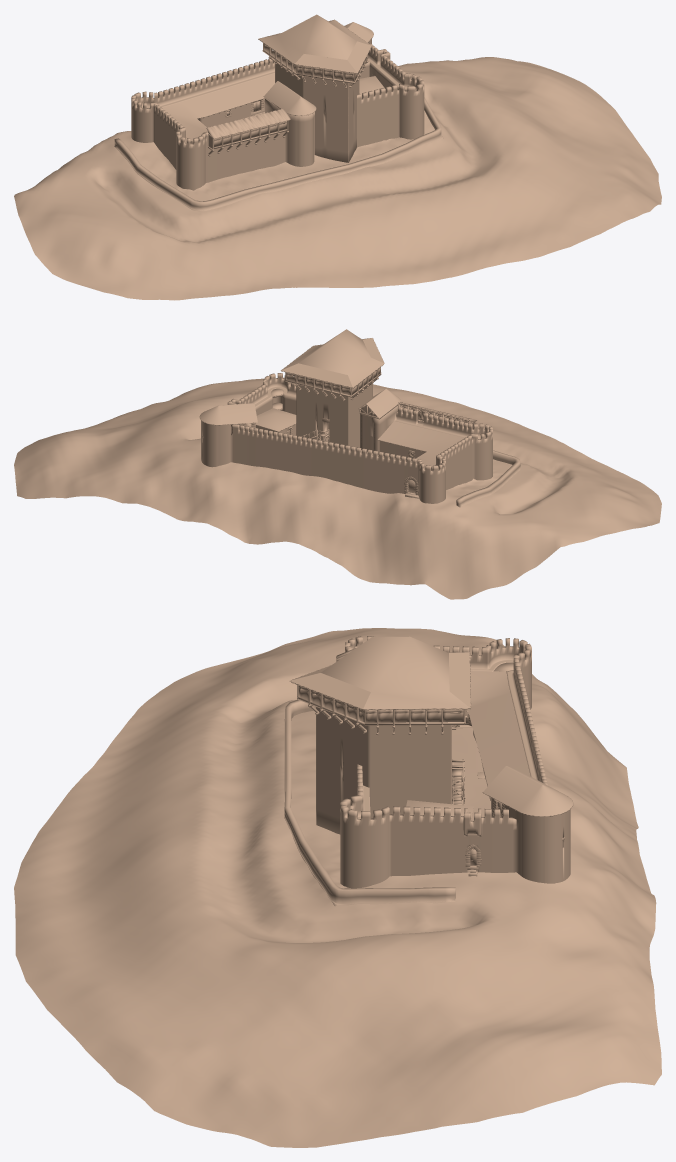
File: Castle.glb
3 views of the same model, one above another, from view 1: azimuth 30°, elevation 25°; view 2: azimuth 150°, elevation 25°; view 3: azimuth 270°, elevation 25° (orthographic). The views are drawn at different scales.
Visible parts, largest first — view 1: Castle; view 2: Castle; view 3: Castle.
Boxes of the visible parts, left/top/right/bottom form: Castle: left=14, top=14, right=661, bottom=300; Castle: left=14, top=329, right=661, bottom=599; Castle: left=14, top=628, right=661, bottom=1147.
Size of the model in its own units: 0.706 by 0.2157 by 0.43.
